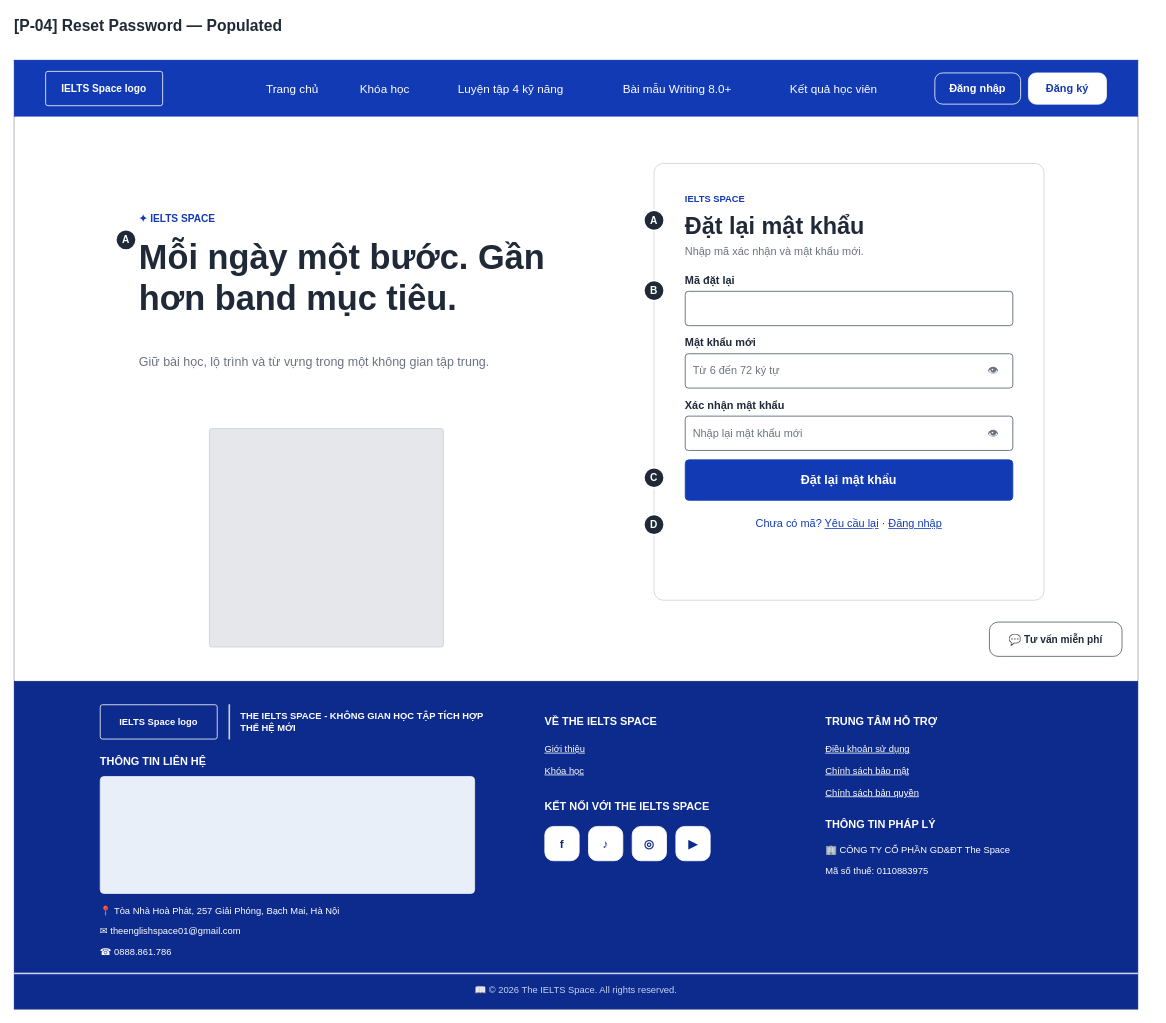
The diagram is 1166 pixels wide and 1023 high, and some of its shapes have lost their labels. The centre of each missing label's shape, as x and y in pixels:
Dán mã từ log/Swagger hoặc email: the point at 848,308
▨ Mascot ClassMascot (lg): the point at 326,537
📍 The IELTS Space Mở trong Maps ↗: the point at 287,834
